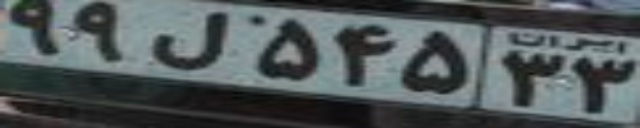3: (569, 55, 636, 113), (503, 52, 566, 105)
4: (331, 23, 397, 88)
5: (401, 29, 467, 95), (259, 19, 320, 80)
9: (70, 2, 120, 62), (9, 0, 59, 56)
lam: (147, 11, 224, 71)
